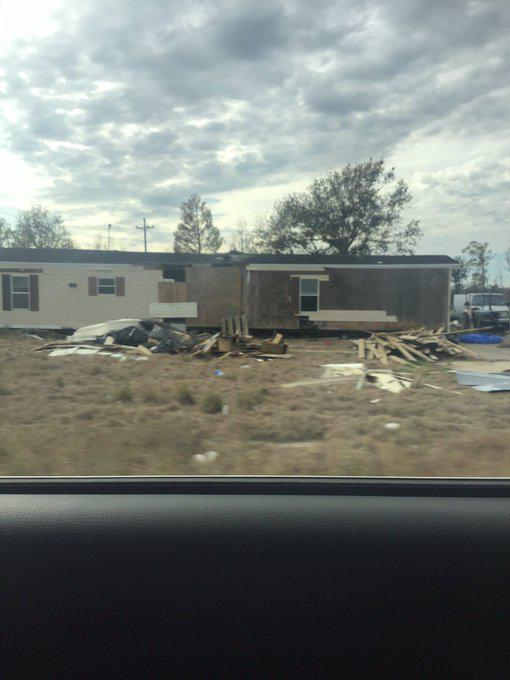minor: (6, 227, 468, 342)
